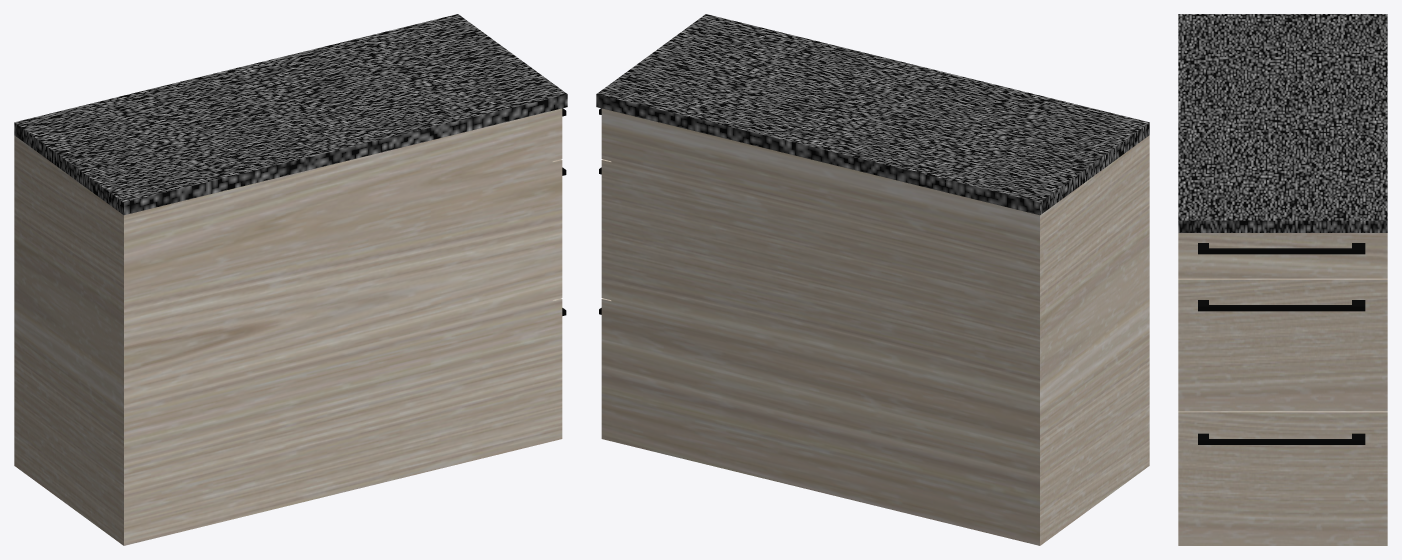
File: closet_simple.gltf
The picture shows the model from 3 angles, left to right: view 1: azimuth 30°, elevation 25°; view 2: azimuth 150°, elevation 25°; view 3: azimuth 270°, elevation 25°; orthographic projection. The views are drawn at different scales.
Visible parts, largest first — view 1: simple_closet; view 2: simple_closet; view 3: simple_closet.
Part boxes in pixels (bbox=[...]): simple_closet: bbox=[14, 14, 567, 545]; simple_closet: bbox=[596, 14, 1149, 545]; simple_closet: bbox=[1178, 14, 1387, 545].
Size of the model in its own units: 1.89 by 1.37 by 0.7914.
3 materials, 2 textured.
